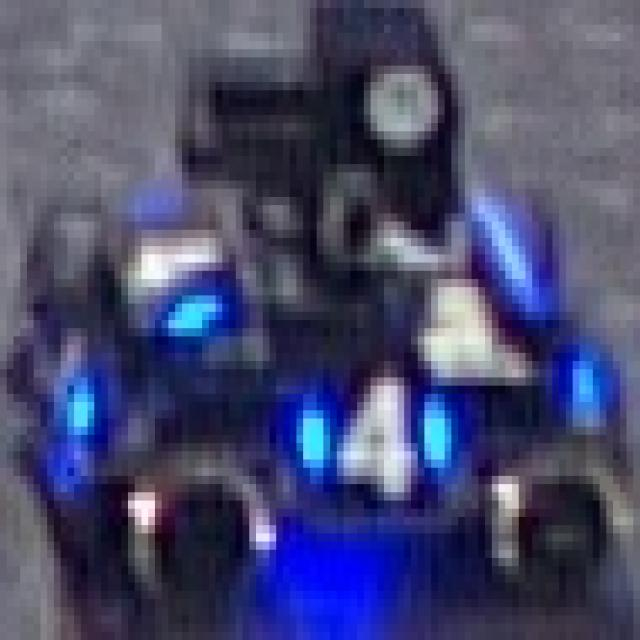B4: (273, 357, 468, 521), (105, 201, 239, 365)
